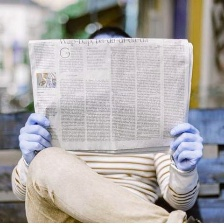news_paper: (25, 35, 195, 153)
